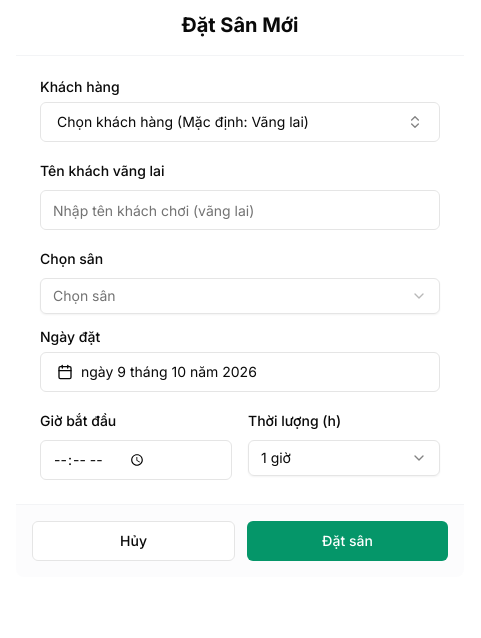
Test: Bookings Feature › BookingForm › should validate missing required fields on submit
Click the button "Đặt sân": coordinates (348, 541) x1=247 y1=521 x2=448 y2=561
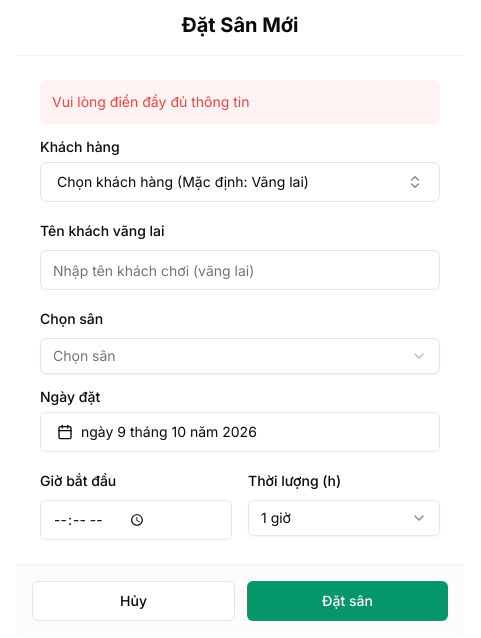
Result: the text "Vui lòng điền đầy đủ thông tin" is shown at x1=40 y1=80 x2=440 y2=124
